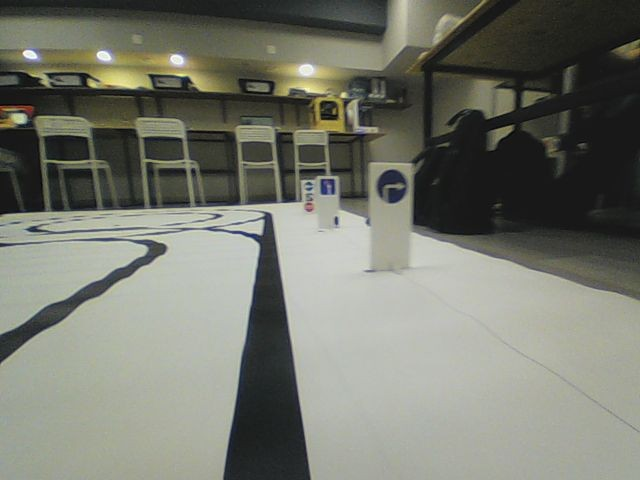Right: (375, 169, 407, 204)
